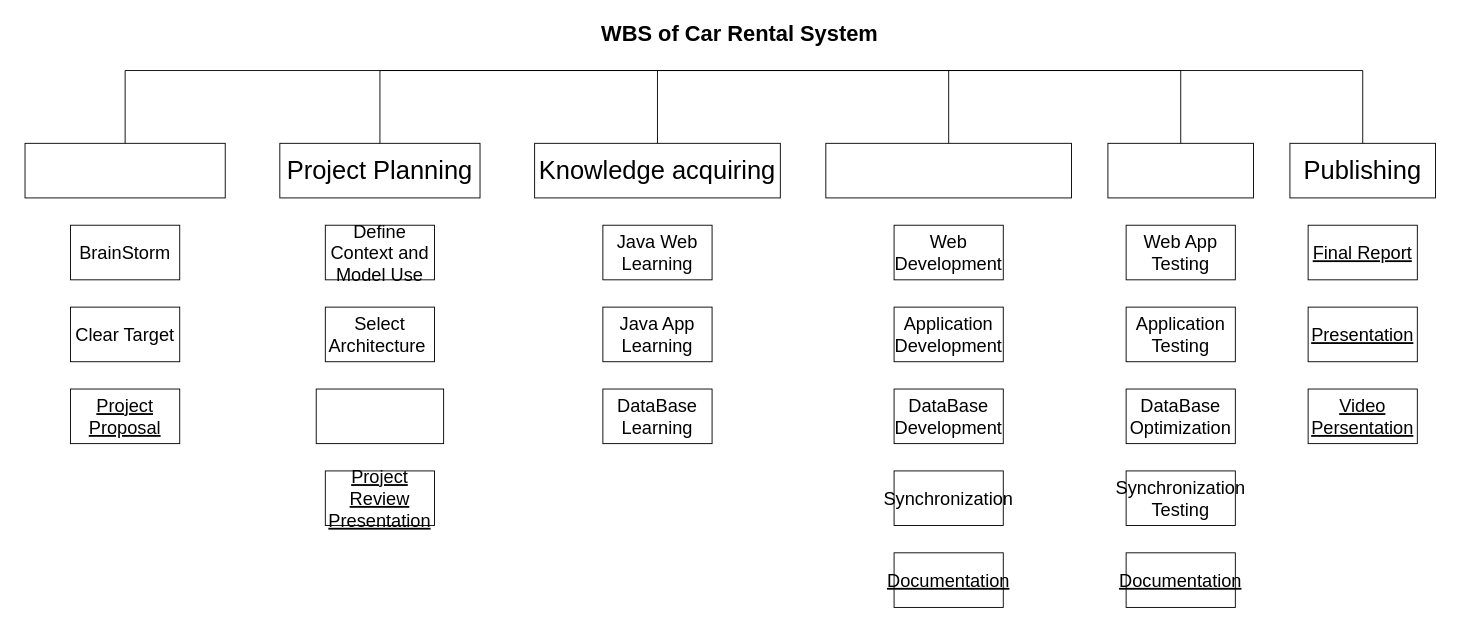
This 1478x623 diagram has some shape labels left out. Each missing label, with the centre of its shape:
Develop Detailed Design Model: [379,416]
Idea Generation: [124,170]
Project Development: [948,170]
Testing: [1180,170]
